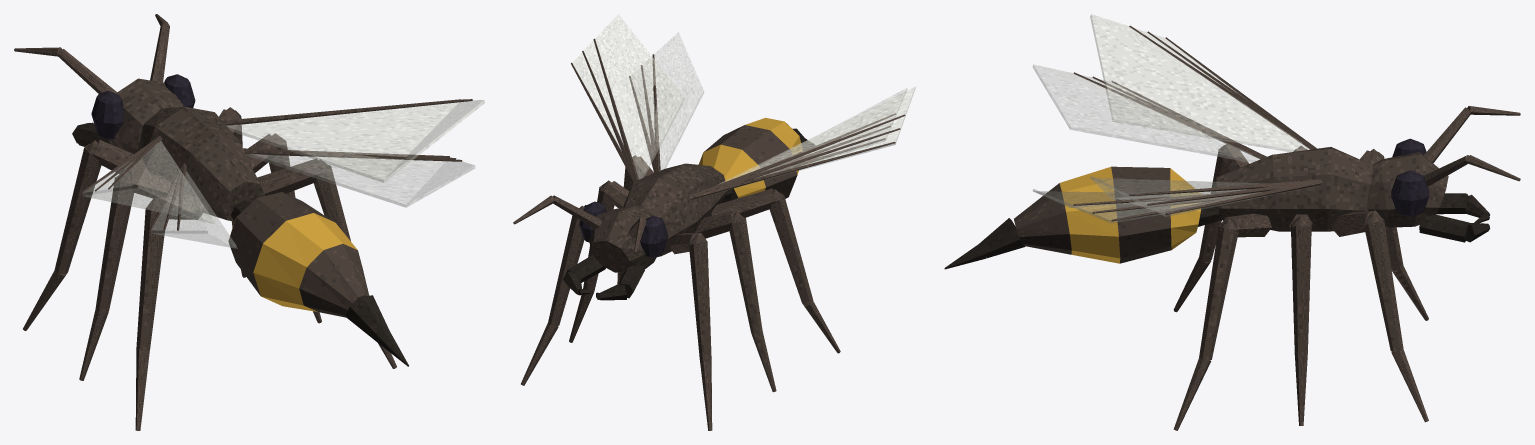
File: mon_wasp.glb
The picture shows the model from 3 angles, left to right: view 1: azimuth 30°, elevation 25°; view 2: azimuth 150°, elevation 25°; view 3: azimuth 270°, elevation 25°; orthographic projection. The views are drawn at different scales.
Parts seen in each view (by area): view 1: closed_body, glazing; view 2: closed_body, glazing; view 3: closed_body, glazing.
Part boxes in pixels (x1,y1,x2,y2): closed_body: (14, 14, 472, 430); glazing: (82, 100, 484, 248); closed_body: (513, 38, 905, 430); glazing: (572, 14, 915, 194); closed_body: (944, 25, 1520, 430); glazing: (1032, 14, 1310, 223).
Bounding box in the file's own units: 1.63 × 1.19 × 2.25.
Materials: 2 (2 with a texture image).
